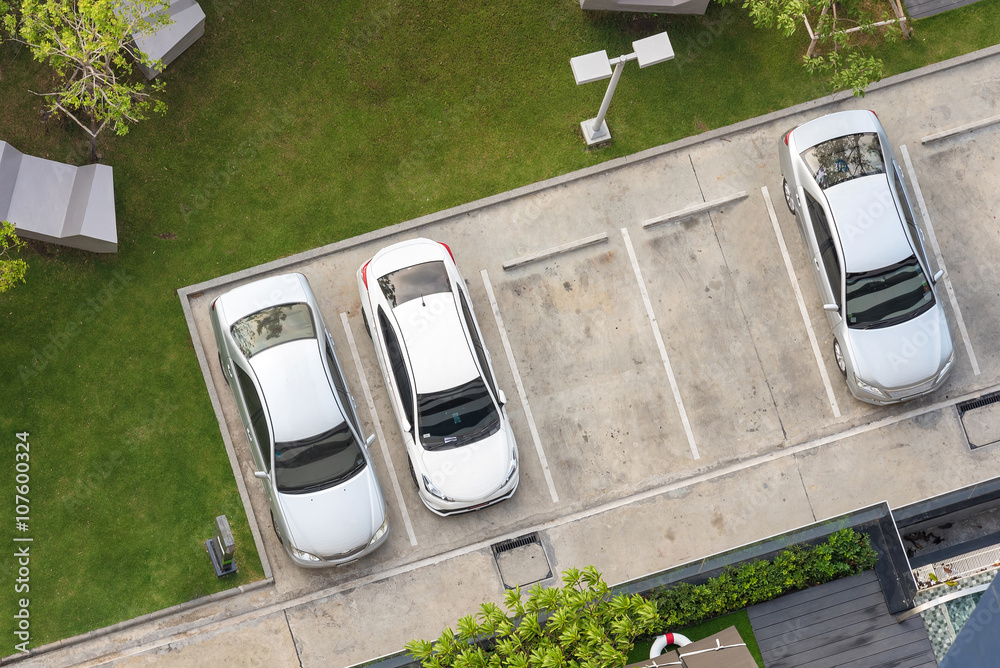bos: (767, 104, 976, 508), (341, 244, 559, 594), (199, 285, 417, 563)
dolu: (627, 207, 833, 528), (493, 237, 697, 553)
